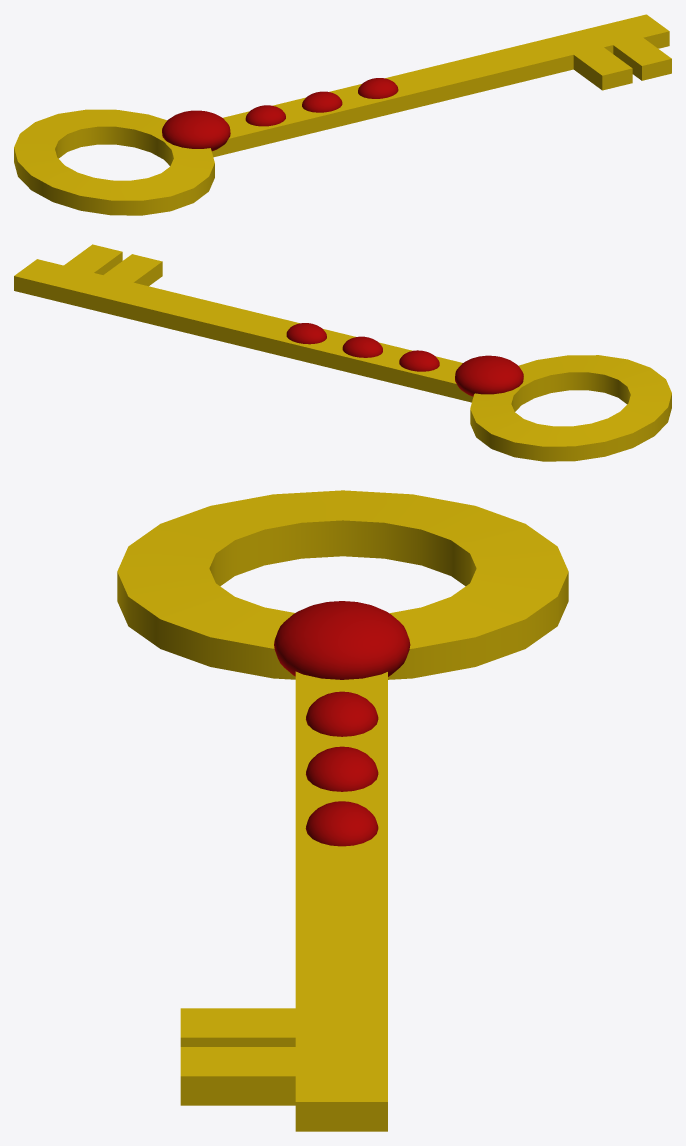
File: Clef.fbx
3 renders of one model, top to bottom at view 1: azimuth 30°, elevation 25°; view 2: azimuth 150°, elevation 25°; view 3: azimuth 270°, elevation 25°, orthographic. The views are drawn at different scales.
Parts seen in each view (by area): view 1: pCube2; view 2: pCube2; view 3: pCube2.
Part boxes in pixels (box(x1,y1,x2,y2)): pCube2: box(14, 14, 671, 215); pCube2: box(14, 244, 671, 461); pCube2: box(117, 490, 568, 1131).
Size of the model in its own units: 25.39 by 1.39 by 7.92.
